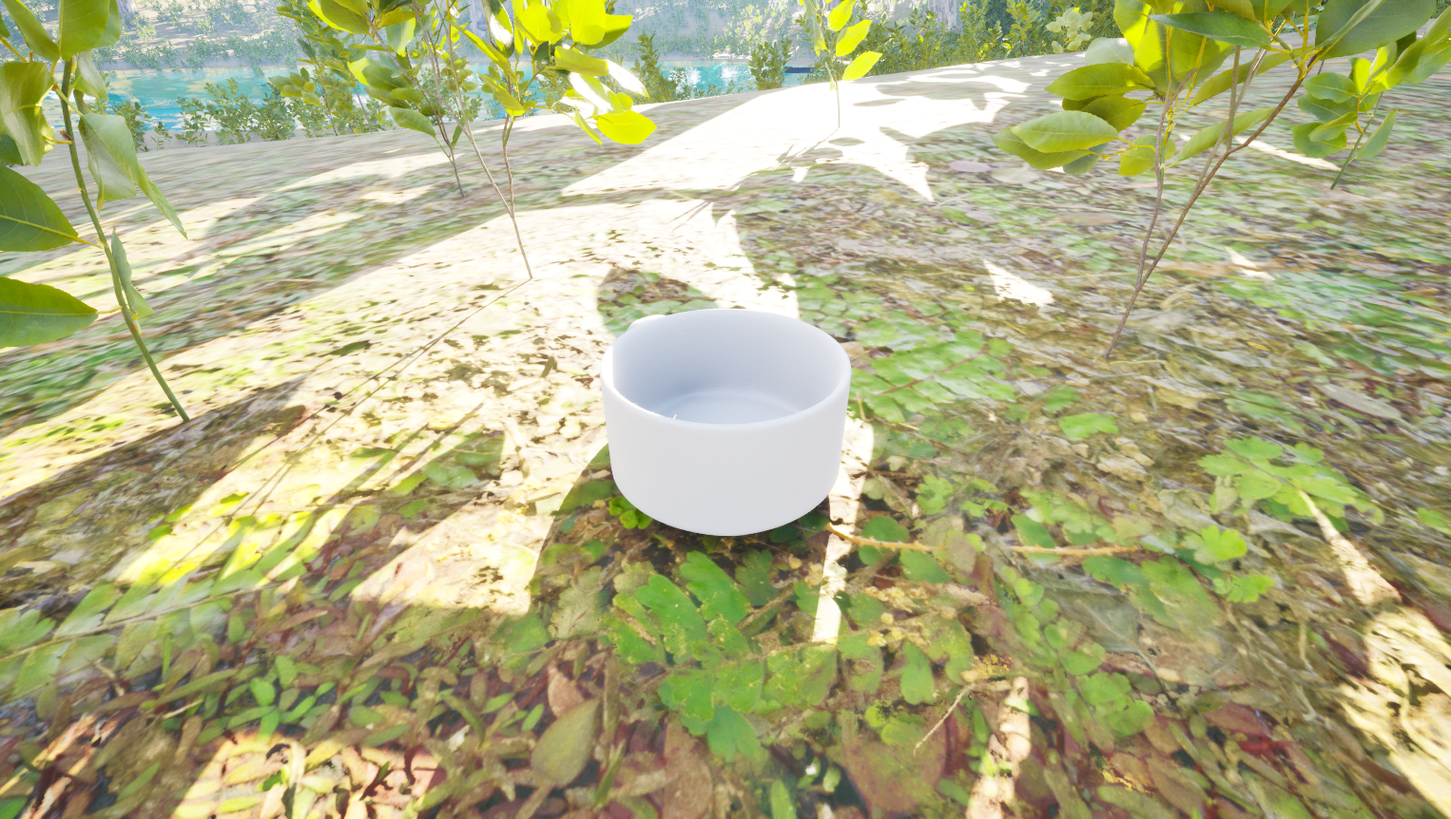Teacup: (581, 293, 881, 542)
